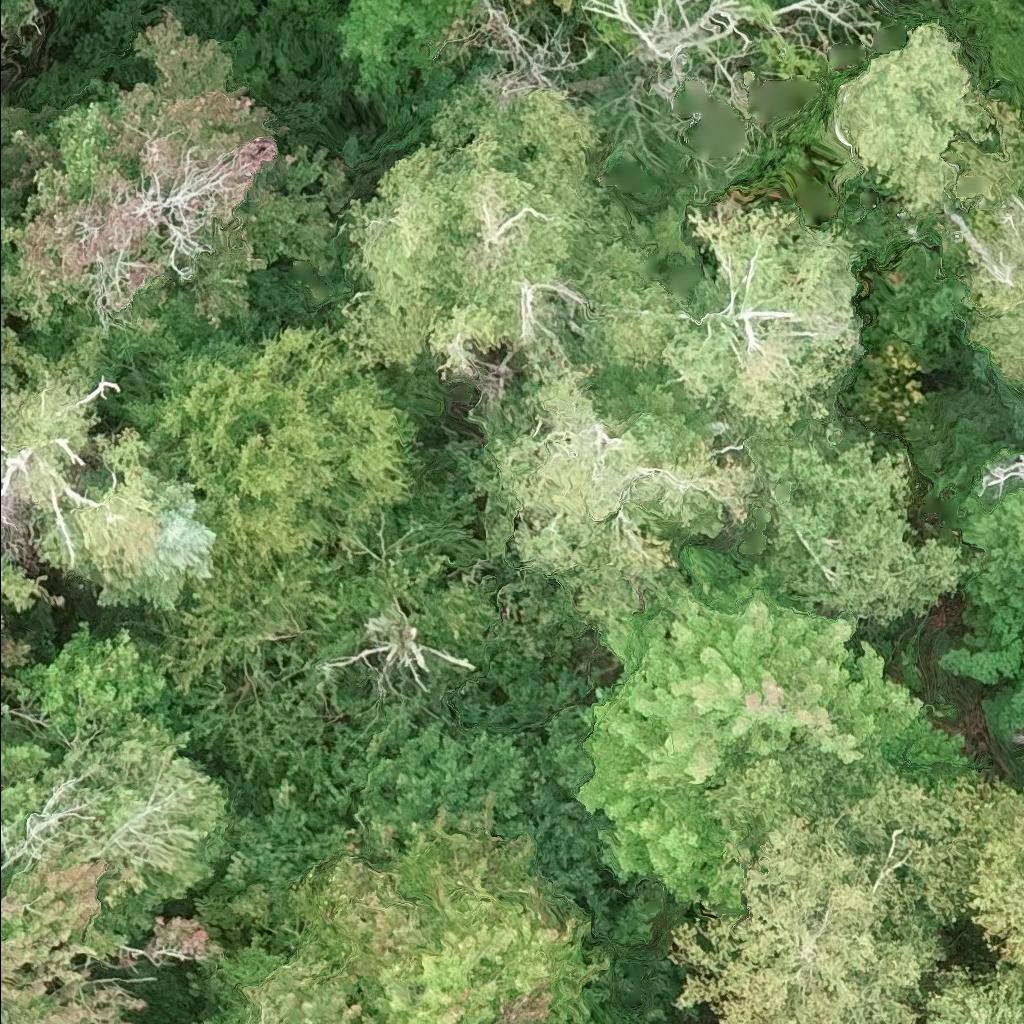crown: (576, 548, 929, 912), (2, 11, 277, 329), (337, 77, 626, 378), (481, 347, 765, 645), (264, 798, 616, 1023), (123, 318, 423, 573), (576, 197, 865, 438), (667, 814, 950, 1023), (705, 747, 1023, 928), (751, 424, 971, 632), (0, 837, 226, 1023), (169, 147, 350, 337), (943, 141, 1023, 391), (98, 457, 222, 612), (192, 937, 367, 1023), (961, 812, 1023, 975), (922, 963, 1023, 1023), (0, 551, 64, 629), (0, 176, 21, 342), (0, 0, 29, 40), (0, 102, 22, 144), (552, 0, 579, 11), (522, 0, 543, 5), (1018, 788, 1023, 796), (0, 52, 0, 57)
